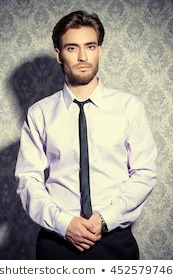F_shirt: (13, 76, 162, 228)
F_tie: (76, 99, 94, 219)
